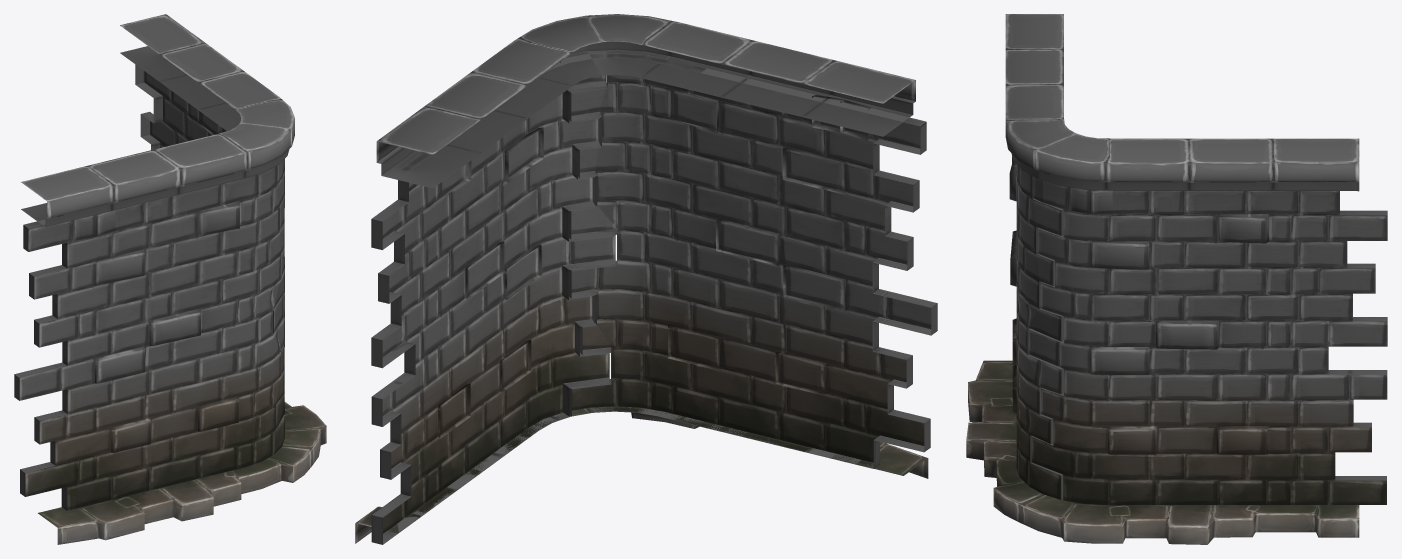
The model's file is BD_Wall_OuterCorner.fbx.
3 renders of one model, left to right at view 1: azimuth 30°, elevation 25°; view 2: azimuth 150°, elevation 25°; view 3: azimuth 270°, elevation 25°, orthographic. The views are drawn at different scales.
Visible parts, largest first — view 1: BD_Wall_OutherCorner; view 2: BD_Wall_OutherCorner; view 3: BD_Wall_OutherCorner.
Part boxes in pixels (x1,y1,x2,y2): BD_Wall_OutherCorner: (14, 14, 326, 544); BD_Wall_OutherCorner: (355, 14, 937, 544); BD_Wall_OutherCorner: (966, 14, 1387, 544).
Bounding box in the file's own units: 5.37 × 5.13 × 5.37.
